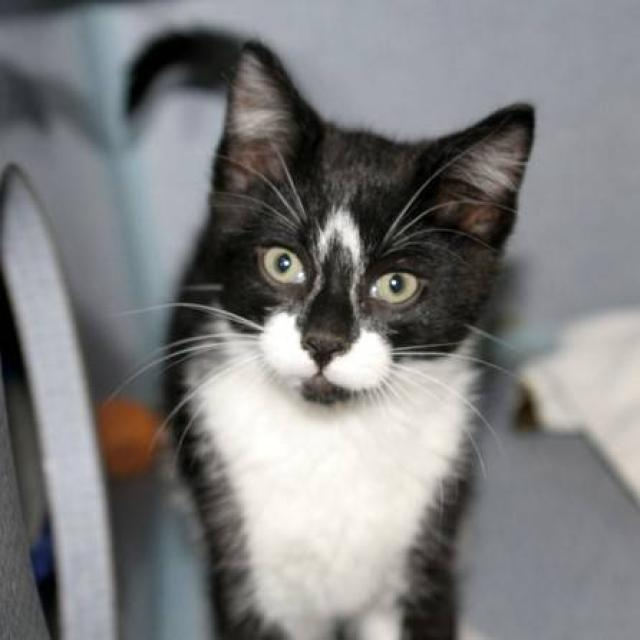cat: (102, 31, 538, 639)
